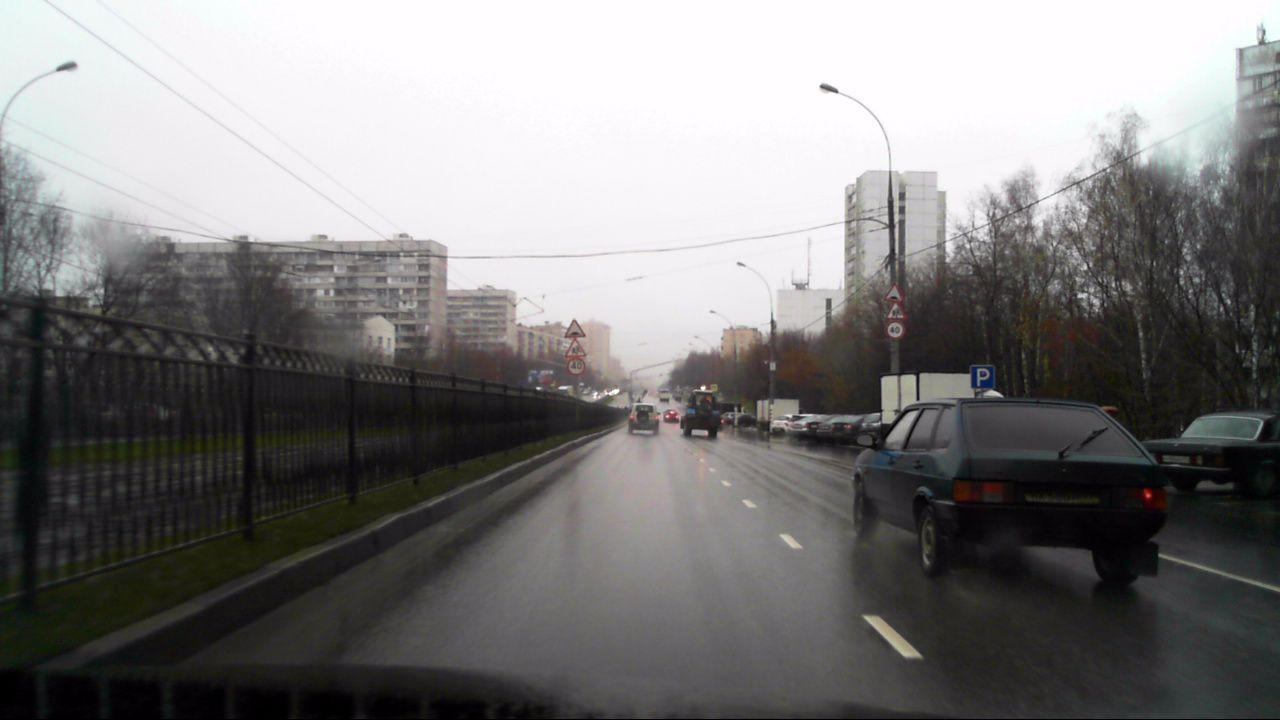road_sign: (969, 365, 996, 389), (564, 338, 588, 358), (563, 318, 587, 338), (882, 283, 906, 302), (885, 302, 909, 320), (885, 321, 905, 340), (567, 358, 586, 375)
